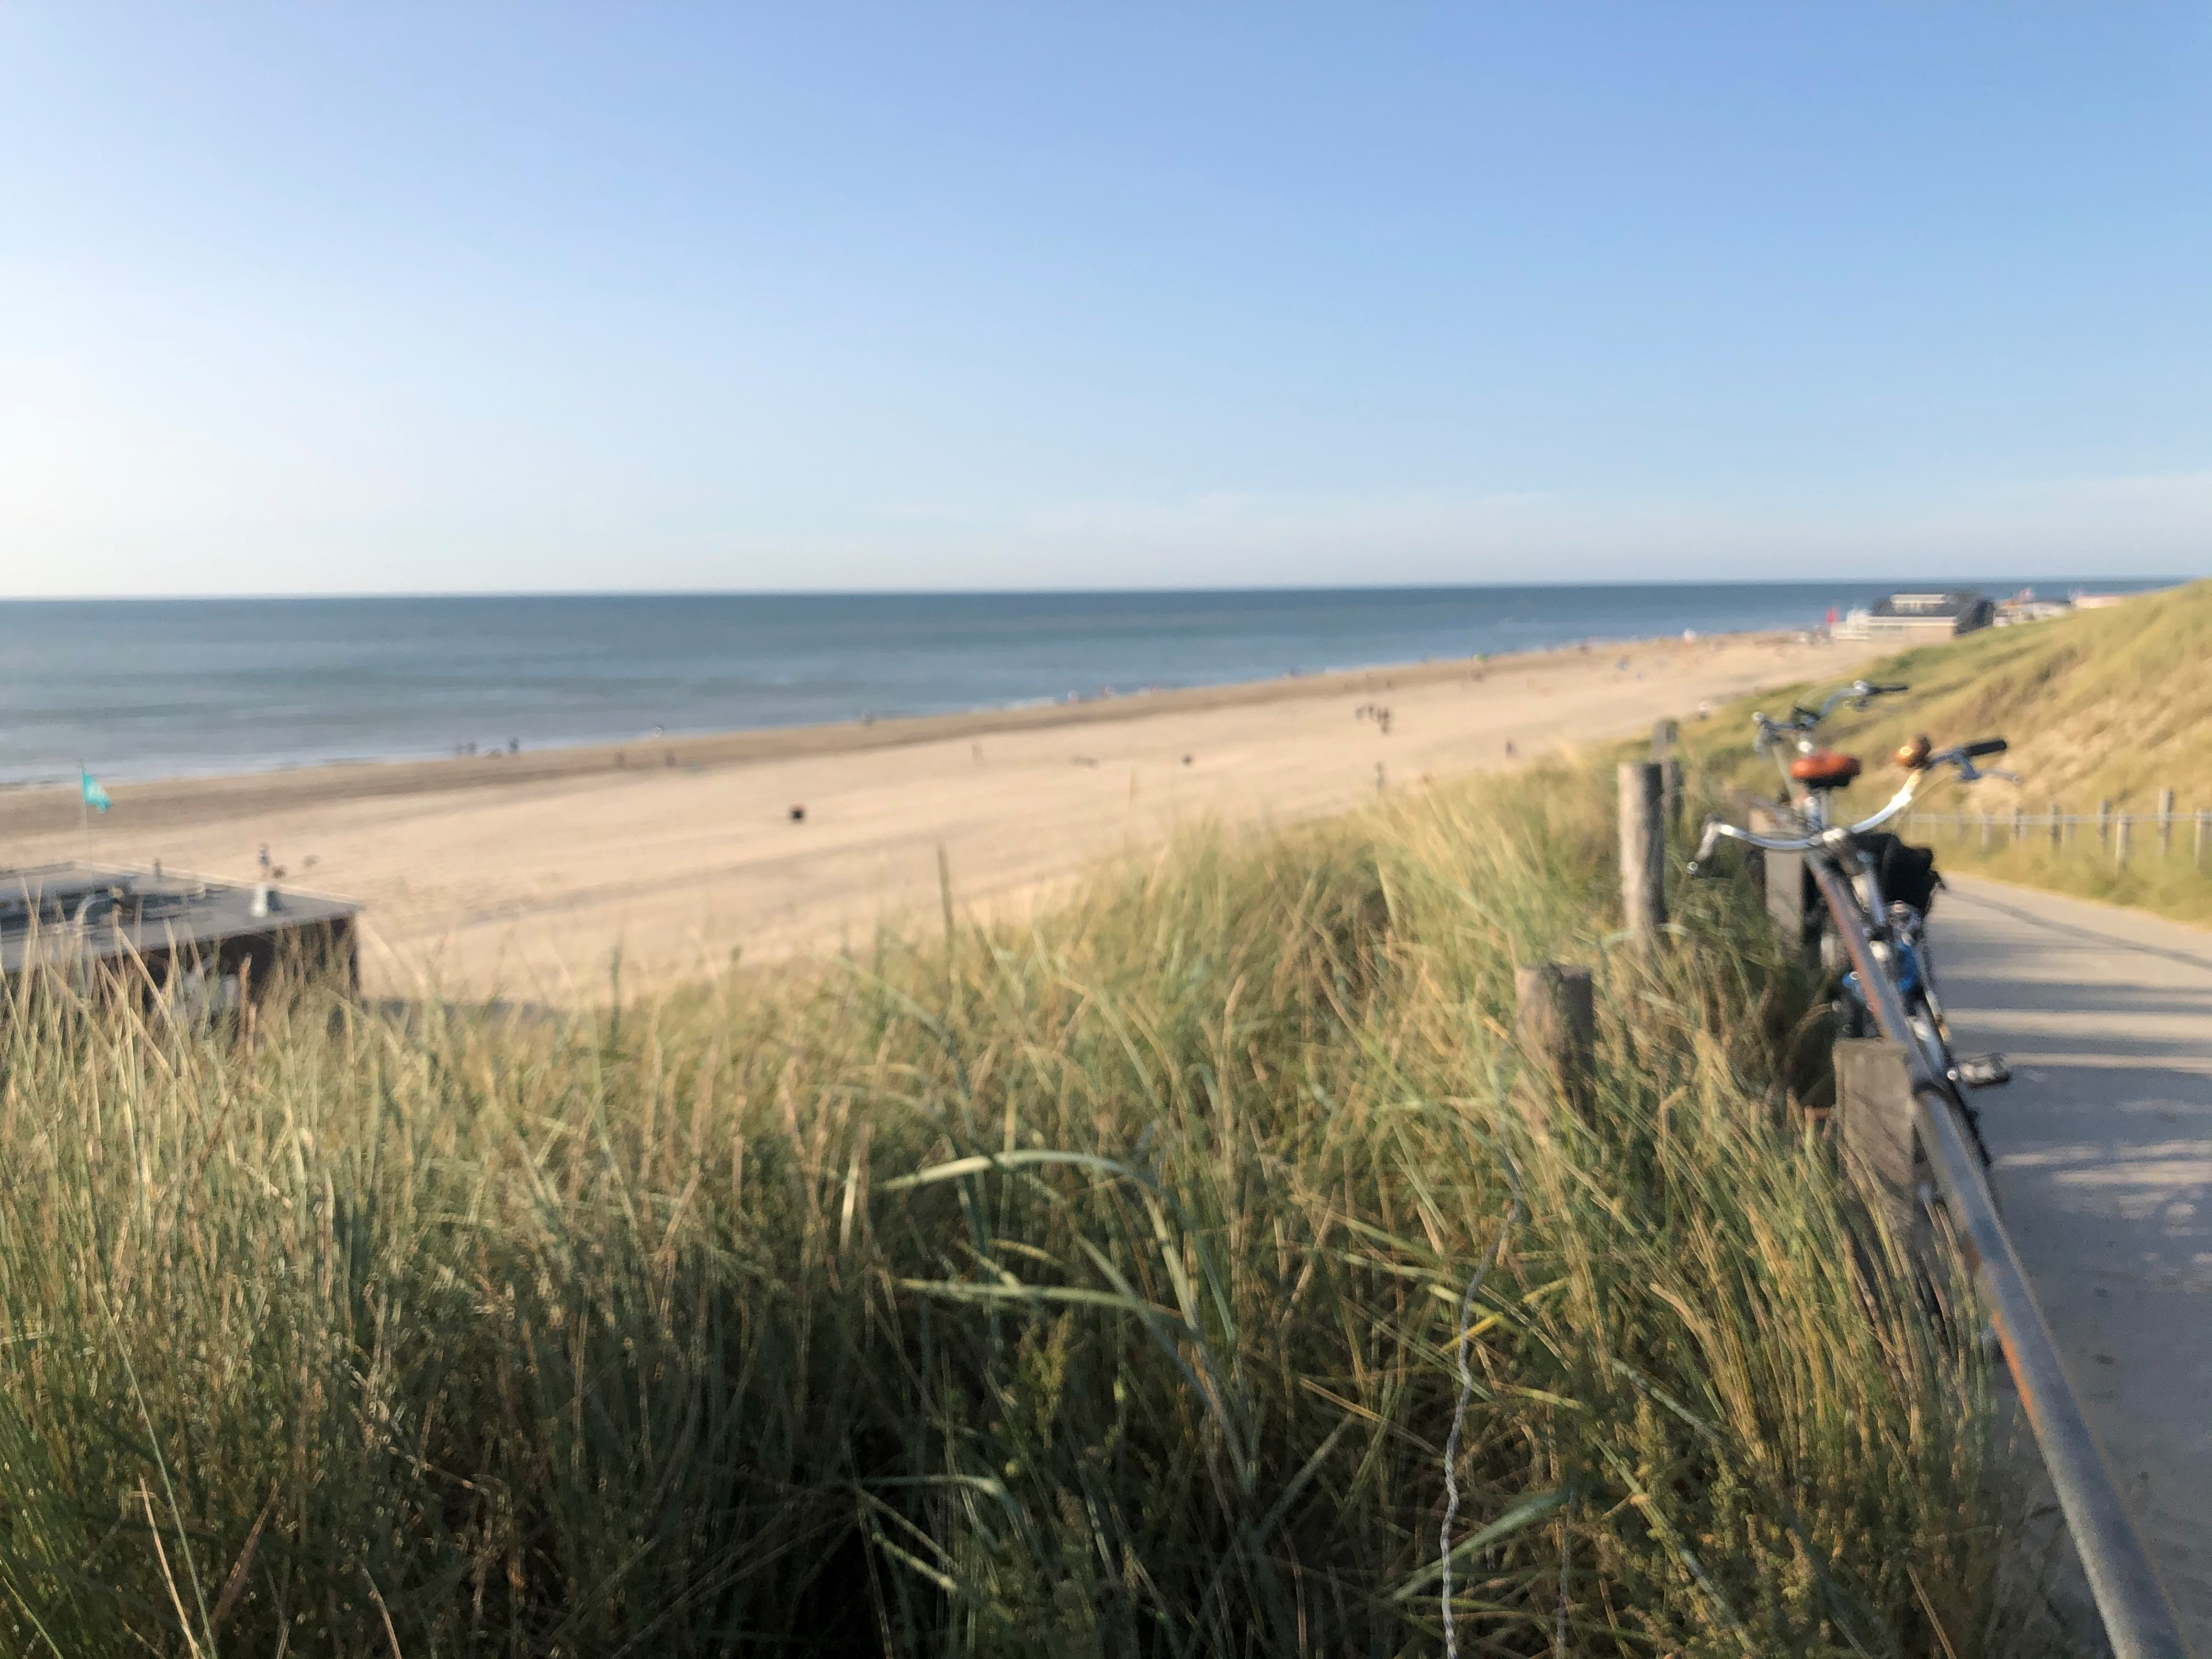zilvermeeuw: (2, 850, 404, 1072)
